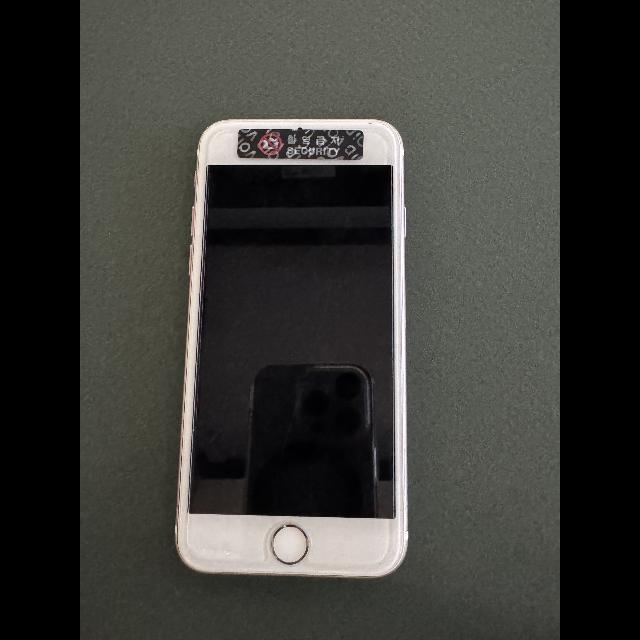lens: (297, 128, 303, 130)
phone: (175, 119, 408, 577)
sticker: (237, 129, 363, 160)
